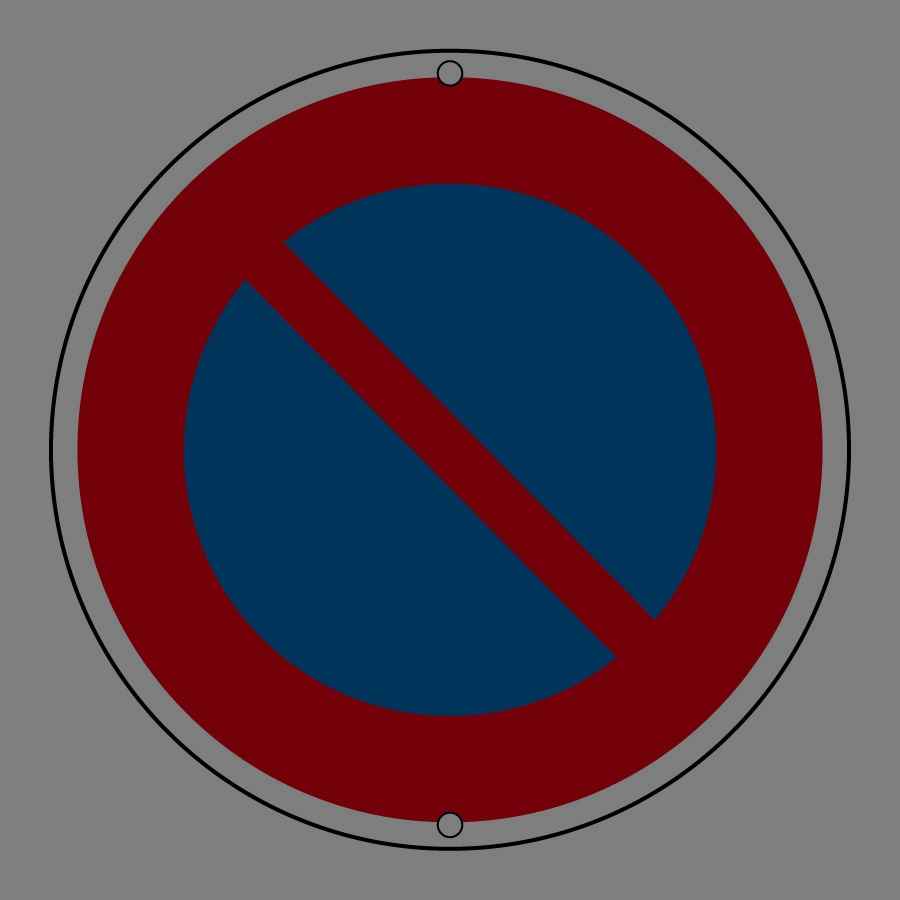Prohibition_sign: (15, 28, 895, 898)
